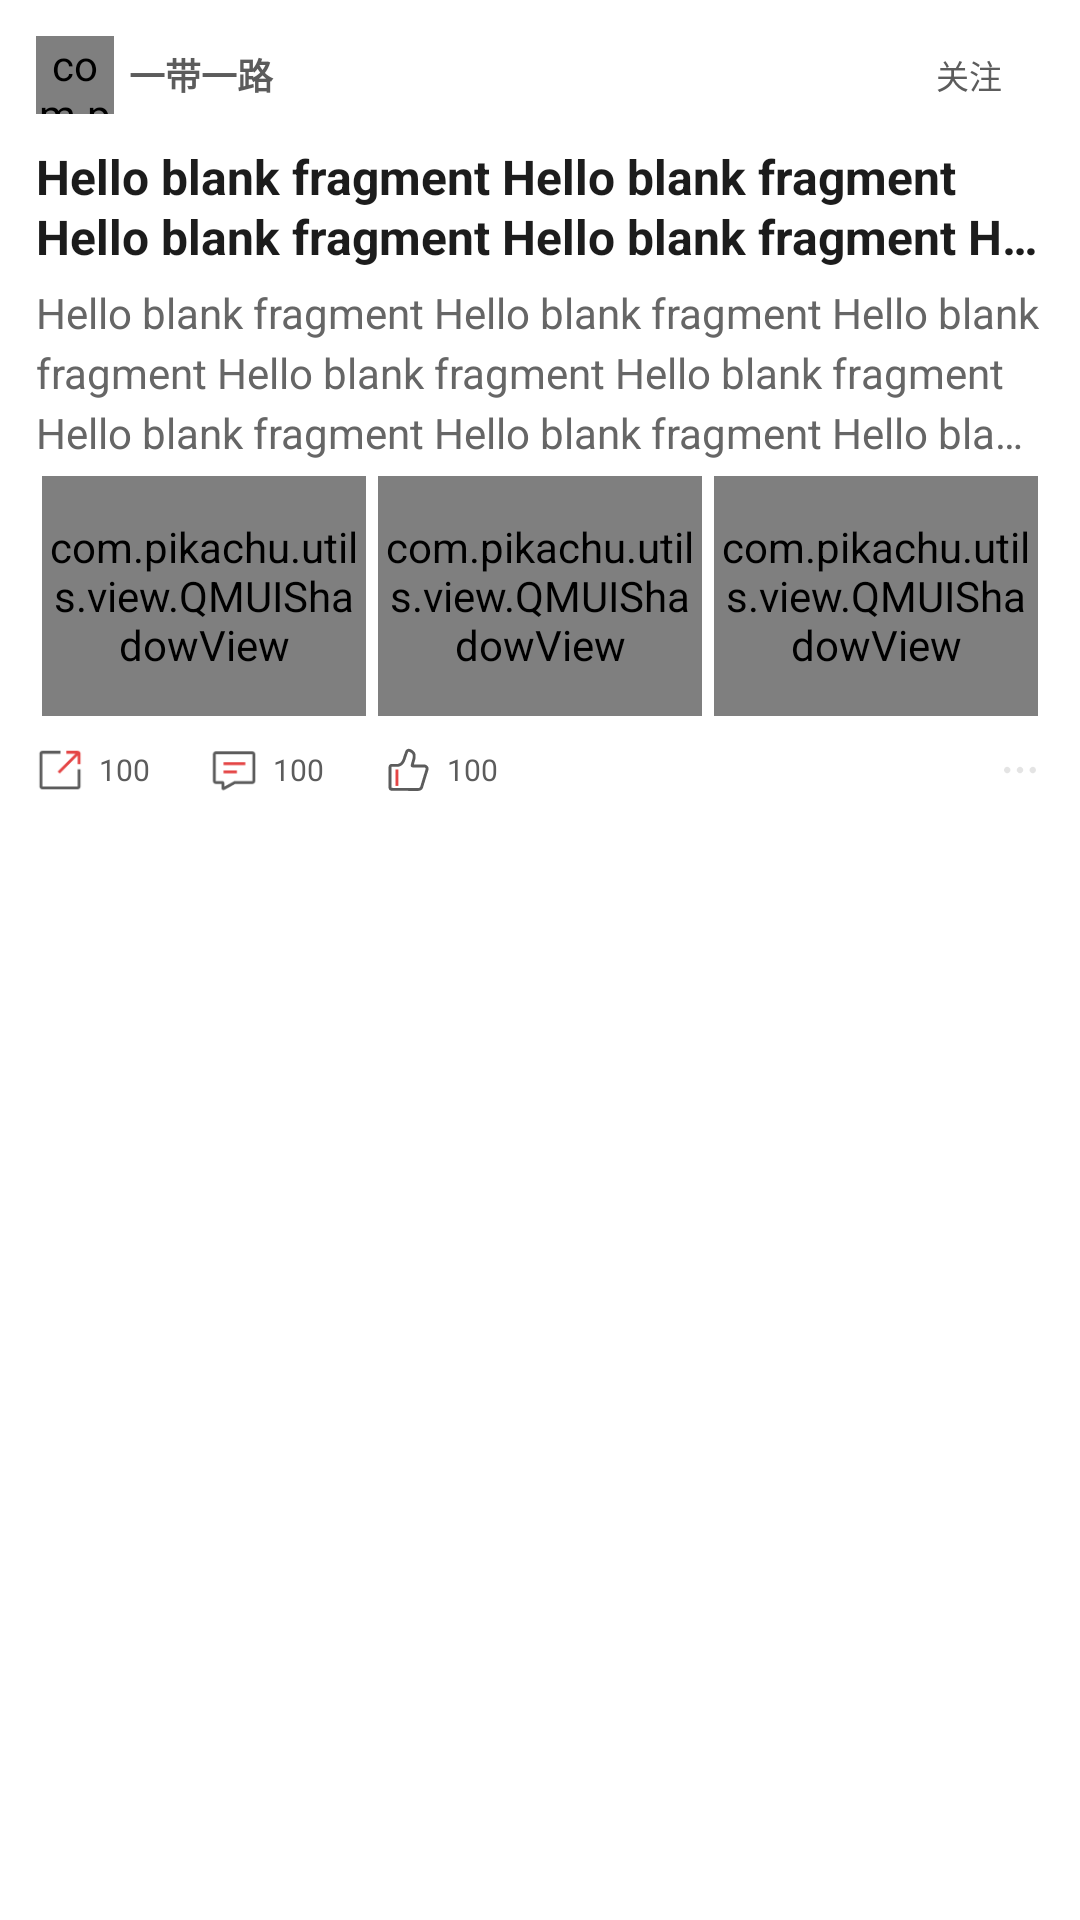

Icon bounding boxes for this 1080×1920 phone screenshot, format BBox(x1, y1, x2, y2):
item good: BBox(388, 748, 429, 791)
item many: BBox(1004, 767, 1035, 773)
item msg: BBox(212, 751, 256, 791)
item share: BBox(39, 750, 81, 790)
